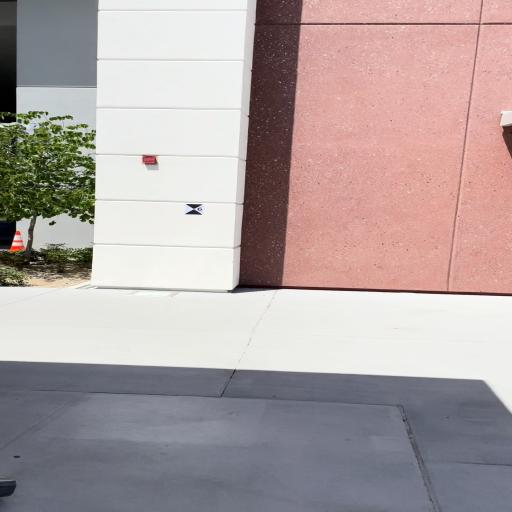target6: (185, 203, 203, 215)
